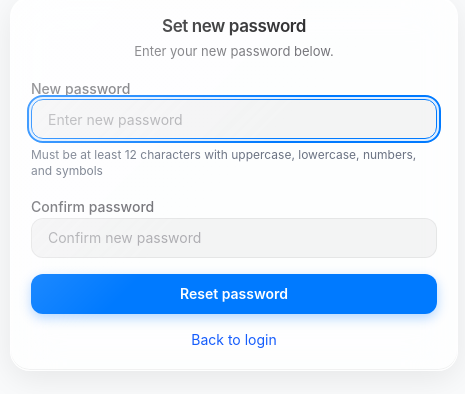
Test: Reset Password Page › renders success state after password reset
Expected: the heading "Set new password" is shown, x1=162 y1=16 x2=306 y2=36
# Fill in passwords
Step 1. Type "newpassword123" into the password field labelled "New password" → (234, 119), box x1=31 y1=99 x2=437 y2=139
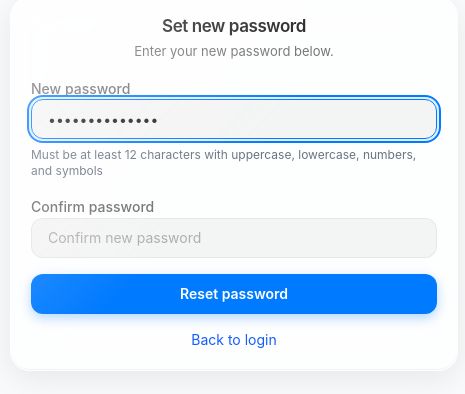
Step 2. Type "newpassword123" into the password field labelled "Confirm password" → (234, 238), box x1=31 y1=218 x2=437 y2=258
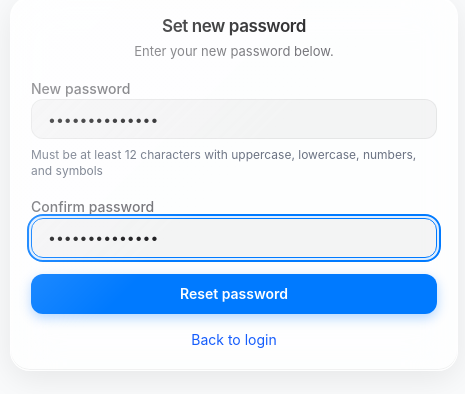
# Submit the form
Step 3. Click the button "Reset password" → click(234, 294), box x1=31 y1=274 x2=437 y2=314
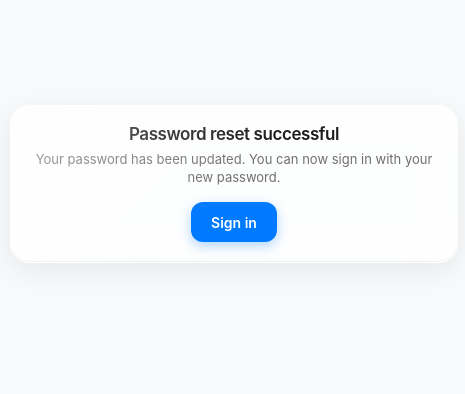
Expected: the heading "Password reset successful" is shown, x1=129 y1=124 x2=339 y2=144
Expected: the text "Your password has been updated" is shown, x1=36 y1=151 x2=432 y2=184
Expected: the button "Sign in" is shown, x1=191 y1=202 x2=277 y2=242
